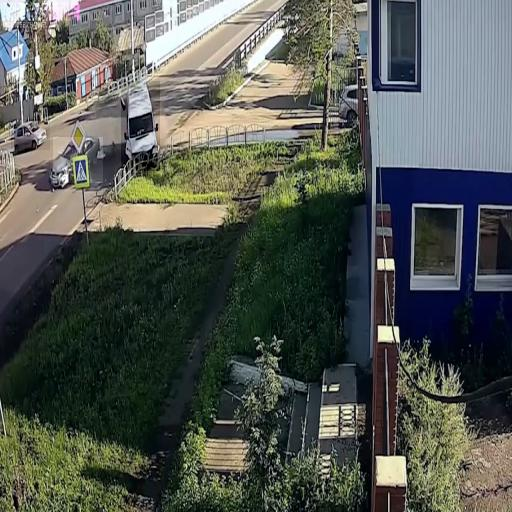小汽车: (121, 81, 160, 171), (53, 137, 103, 183), (11, 119, 50, 150)
